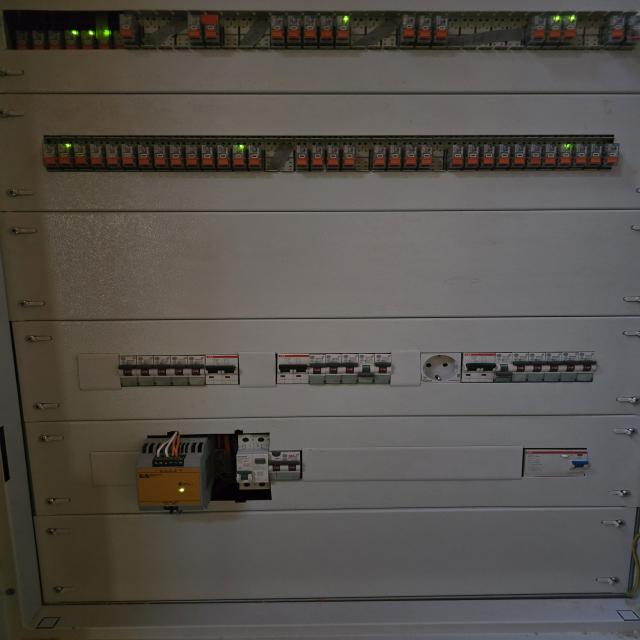FI: (524, 448, 589, 478)
FI_Sicherungskombi: (238, 435, 270, 489)
Leitungsschutzschalter: (206, 355, 238, 385), (463, 353, 495, 382), (278, 354, 308, 384), (270, 452, 302, 480), (119, 356, 138, 386), (170, 355, 188, 385), (187, 355, 205, 385), (579, 352, 596, 382), (137, 356, 155, 384), (155, 355, 171, 386), (342, 353, 358, 384), (358, 353, 374, 384), (374, 353, 390, 384), (496, 352, 512, 383), (309, 354, 325, 384), (326, 354, 342, 384), (529, 352, 545, 382), (562, 352, 578, 382), (513, 353, 529, 382), (546, 353, 561, 381)
Relais: (524, 16, 546, 46), (119, 12, 138, 44), (605, 16, 625, 45), (334, 14, 352, 46), (203, 14, 219, 46), (270, 15, 286, 45), (188, 15, 203, 46), (303, 14, 317, 46), (320, 14, 334, 46), (563, 15, 577, 47), (434, 15, 448, 46), (230, 144, 248, 168), (417, 15, 432, 43), (136, 143, 153, 167), (288, 15, 302, 44), (402, 14, 416, 43), (548, 15, 562, 44), (447, 146, 465, 168), (153, 142, 168, 168), (104, 143, 120, 167), (184, 144, 200, 168), (340, 144, 356, 168), (325, 144, 340, 169), (466, 144, 481, 169), (556, 144, 572, 167), (419, 144, 433, 170), (121, 143, 136, 167), (169, 144, 184, 168), (403, 145, 418, 169), (511, 144, 526, 168), (527, 144, 542, 168), (573, 144, 588, 168), (88, 144, 104, 166), (627, 16, 640, 43), (248, 144, 262, 169), (588, 144, 603, 167), (605, 144, 620, 167), (43, 142, 57, 166), (216, 144, 230, 168), (310, 145, 324, 169), (388, 145, 402, 169), (496, 144, 510, 168), (543, 144, 557, 168), (372, 146, 387, 168), (11, 30, 28, 49), (296, 144, 308, 170), (482, 144, 495, 168), (58, 143, 72, 165), (73, 144, 87, 166), (65, 28, 78, 51), (32, 29, 45, 51), (201, 144, 214, 166), (49, 30, 62, 50), (98, 29, 110, 50), (82, 30, 93, 50), (114, 29, 124, 49)
